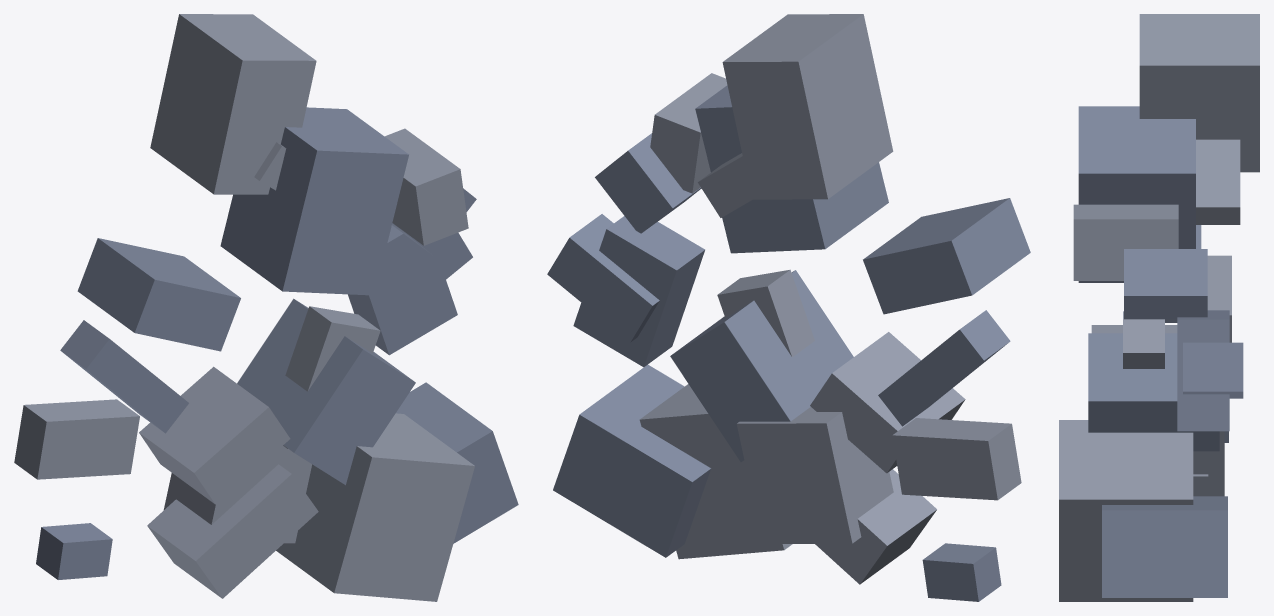
The model's file is 25_Meteor_Rubble_Field.glb.
3 renders of one model, left to right at view 1: azimuth 30°, elevation 25°; view 2: azimuth 150°, elevation 25°; view 3: azimuth 270°, elevation 25°, orthographic. The views are drawn at different scales.
Visible parts, largest first — view 1: 25_Meteor_Rubble_Field_01, 25_Meteor_Rubble_Field_06, 25_Meteor_Rubble_Field_02, 25_Meteor_Rubble_Field_11, 25_Meteor_Rubble_Field_17, 25_Meteor_Rubble_Field_00, 25_Meteor_Rubble_Field_12, 25_Meteor_Rubble_Field_14, 25_Meteor_Rubble_Field_13, 25_Meteor_Rubble_Field_05, 25_Meteor_Rubble_Field_08, 25_Meteor_Rubble_Field_03 (+5 smaller); view 2: 25_Meteor_Rubble_Field_02, 25_Meteor_Rubble_Field_05, 25_Meteor_Rubble_Field_16, 25_Meteor_Rubble_Field_11, 25_Meteor_Rubble_Field_17, 25_Meteor_Rubble_Field_01, 25_Meteor_Rubble_Field_06, 25_Meteor_Rubble_Field_14, 25_Meteor_Rubble_Field_13, 25_Meteor_Rubble_Field_00, 25_Meteor_Rubble_Field_09, 25_Meteor_Rubble_Field_03 (+6 smaller); view 3: 25_Meteor_Rubble_Field_06, 25_Meteor_Rubble_Field_02, 25_Meteor_Rubble_Field_05, 25_Meteor_Rubble_Field_01, 25_Meteor_Rubble_Field_11, 25_Meteor_Rubble_Field_08, 25_Meteor_Rubble_Field_07, 25_Meteor_Rubble_Field_04, 25_Meteor_Rubble_Field_13, 25_Meteor_Rubble_Field_09, 25_Meteor_Rubble_Field_10, 25_Meteor_Rubble_Field_16 (+2 smaller).
Boxes of the visible parts, x1,y1,x2,y2 form: 25_Meteor_Rubble_Field_01: [220, 107, 408, 295]; 25_Meteor_Rubble_Field_06: [276, 413, 474, 601]; 25_Meteor_Rubble_Field_02: [150, 14, 316, 194]; 25_Meteor_Rubble_Field_11: [237, 298, 415, 485]; 25_Meteor_Rubble_Field_17: [77, 238, 240, 351]; 25_Meteor_Rubble_Field_00: [139, 366, 290, 504]; 25_Meteor_Rubble_Field_12: [147, 464, 318, 598]; 25_Meteor_Rubble_Field_14: [14, 399, 139, 479]; 25_Meteor_Rubble_Field_13: [348, 225, 457, 355]; 25_Meteor_Rubble_Field_05: [396, 382, 518, 543]; 25_Meteor_Rubble_Field_08: [385, 128, 468, 245]; 25_Meteor_Rubble_Field_03: [60, 320, 188, 433]; 25_Meteor_Rubble_Field_02: [722, 14, 893, 199]; 25_Meteor_Rubble_Field_05: [553, 364, 710, 557]; 25_Meteor_Rubble_Field_16: [736, 407, 893, 543]; 25_Meteor_Rubble_Field_11: [670, 270, 853, 461]; 25_Meteor_Rubble_Field_17: [863, 198, 1030, 314]; 25_Meteor_Rubble_Field_01: [695, 85, 888, 253]; 25_Meteor_Rubble_Field_06: [639, 384, 792, 559]; 25_Meteor_Rubble_Field_14: [892, 418, 1021, 500]; 25_Meteor_Rubble_Field_13: [573, 216, 704, 367]; 25_Meteor_Rubble_Field_00: [810, 332, 965, 473]; 25_Meteor_Rubble_Field_09: [547, 214, 659, 342]; 25_Meteor_Rubble_Field_03: [878, 310, 1010, 426]; 25_Meteor_Rubble_Field_06: [1059, 420, 1193, 601]; 25_Meteor_Rubble_Field_02: [1139, 14, 1259, 172]; 25_Meteor_Rubble_Field_05: [1102, 496, 1227, 597]; 25_Meteor_Rubble_Field_01: [1078, 106, 1195, 282]; 25_Meteor_Rubble_Field_11: [1088, 333, 1219, 451]; 25_Meteor_Rubble_Field_08: [1073, 204, 1178, 280]; 25_Meteor_Rubble_Field_07: [1124, 249, 1207, 319]; 25_Meteor_Rubble_Field_04: [1196, 139, 1240, 224]; 25_Meteor_Rubble_Field_13: [1177, 310, 1229, 431]; 25_Meteor_Rubble_Field_09: [1183, 342, 1243, 398]; 25_Meteor_Rubble_Field_10: [1123, 311, 1164, 368]; 25_Meteor_Rubble_Field_16: [1193, 431, 1224, 496].
Bounding box in the file's own units: 4.18 × 5.02 × 1.76.
